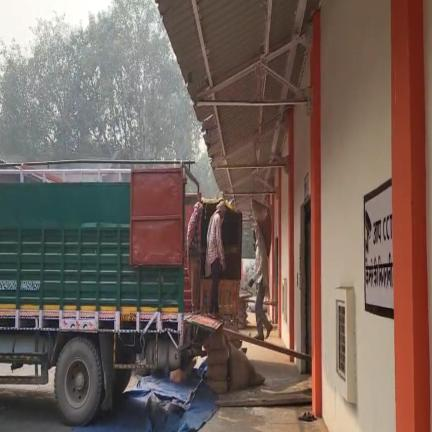Zone-Counting: (249, 199, 272, 340)
